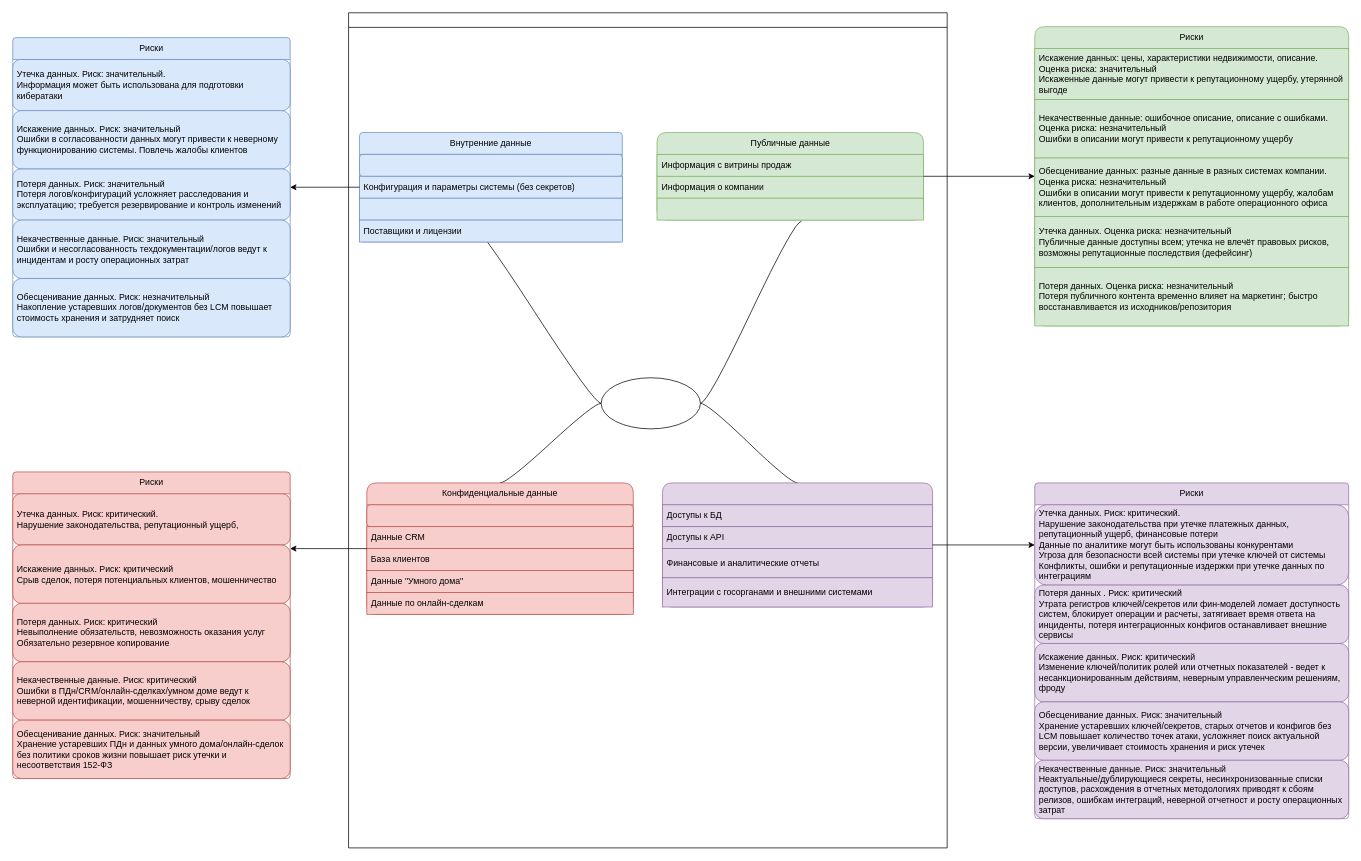
Image size: 1361x861. Some labels were removed from this diagram. The box of each missing label's shape, as (x1, y1, x2, y2) in pixels:
Prop Development: (600, 377, 700, 429)
Безопасность данных компании Prop Development: (348, 12, 947, 848)
Данные о доступных услугах: (656, 197, 923, 220)
Логи и метрики (без ПД): (359, 197, 622, 220)
Персональные данные: (366, 504, 633, 527)
Секретные данные: (662, 482, 933, 607)
Техническая документация и архитектурные артефакты: (359, 154, 622, 176)
